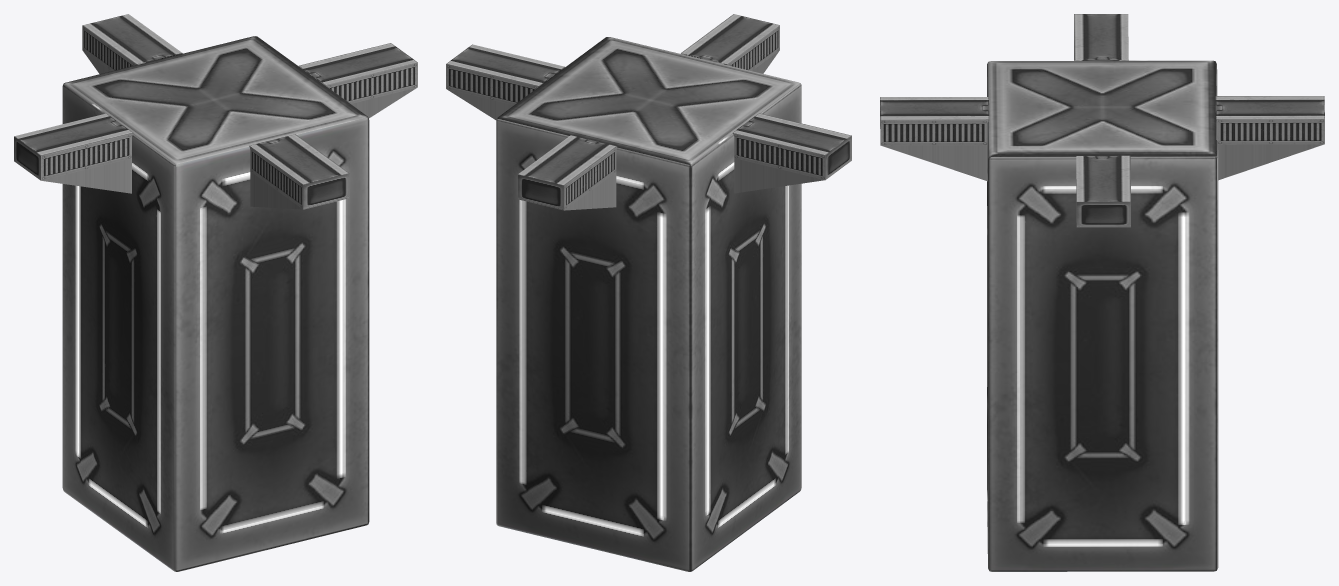
The model's file is ARC1110039.fbx.
3 views of the same model, side by side, from view 1: azimuth 30°, elevation 25°; view 2: azimuth 150°, elevation 25°; view 3: azimuth 270°, elevation 25° (orthographic).
Visible parts, largest first — view 1: smARC1110039; view 2: smARC1110039; view 3: smARC1110039.
Part boxes in pixels (x1,y1,x2,y2): smARC1110039: (14,14,417,571); smARC1110039: (446,14,851,571); smARC1110039: (880,14,1324,571).
Bounding box in the file's own units: 178 × 183 × 178.
Materials: 1 (1 with a texture image).
